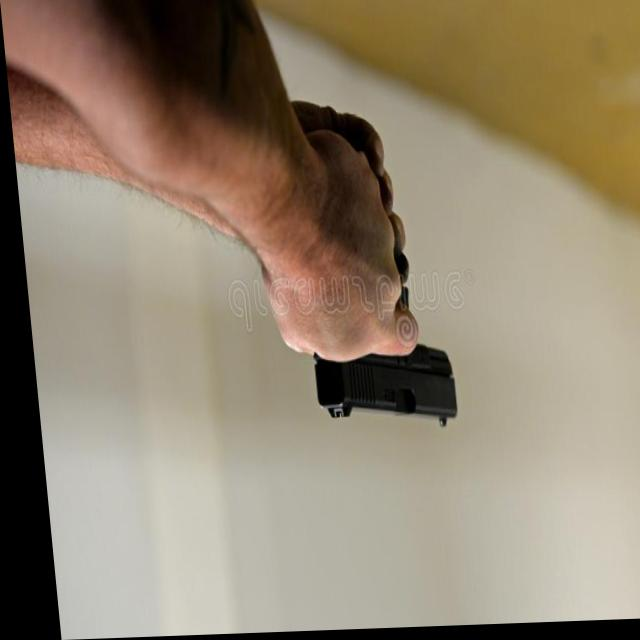handgun: (299, 336, 449, 432)
